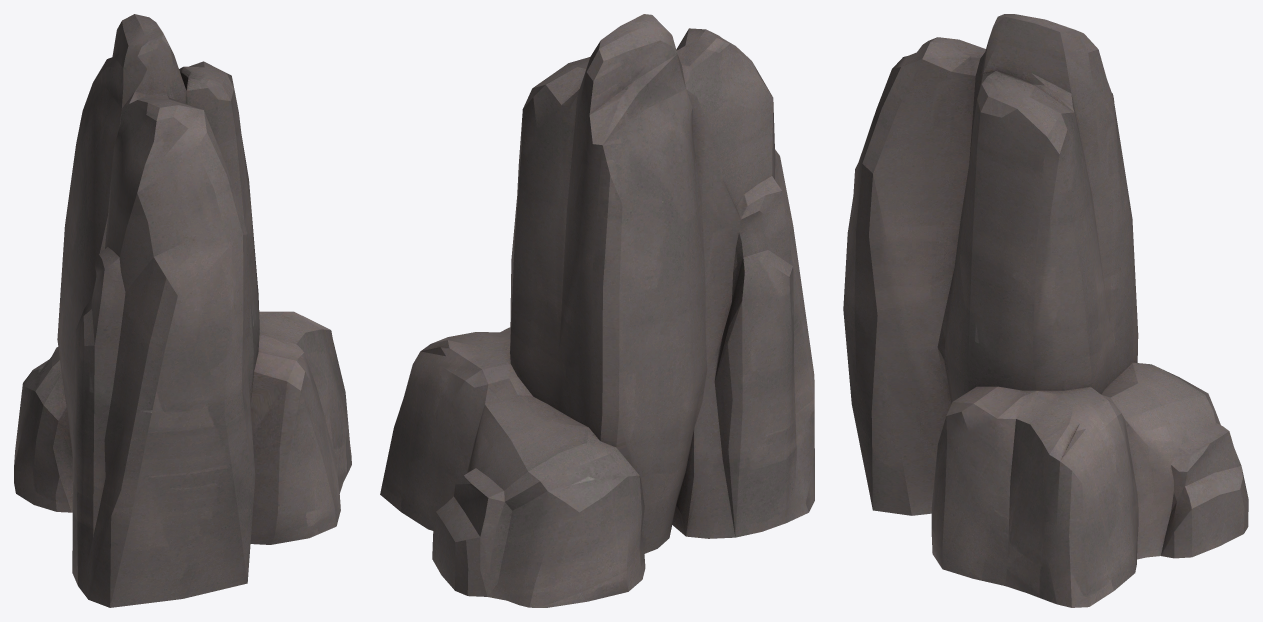
The model's file is rock2.dae.
The picture shows the model from 3 angles, left to right: view 1: azimuth 30°, elevation 25°; view 2: azimuth 150°, elevation 25°; view 3: azimuth 270°, elevation 25°; orthographic projection. The views are drawn at different scales.
Visible parts, largest first — view 1: rock005; view 2: rock005; view 3: rock005.
Boxes of the visible parts, x1,y1,x2,y2 form: rock005: (14,14,351,607); rock005: (380,14,814,607); rock005: (843,14,1248,607).
Bounding box in the file's own units: 5.15 × 5.46 × 7.22.
1 material, 1 textured.
